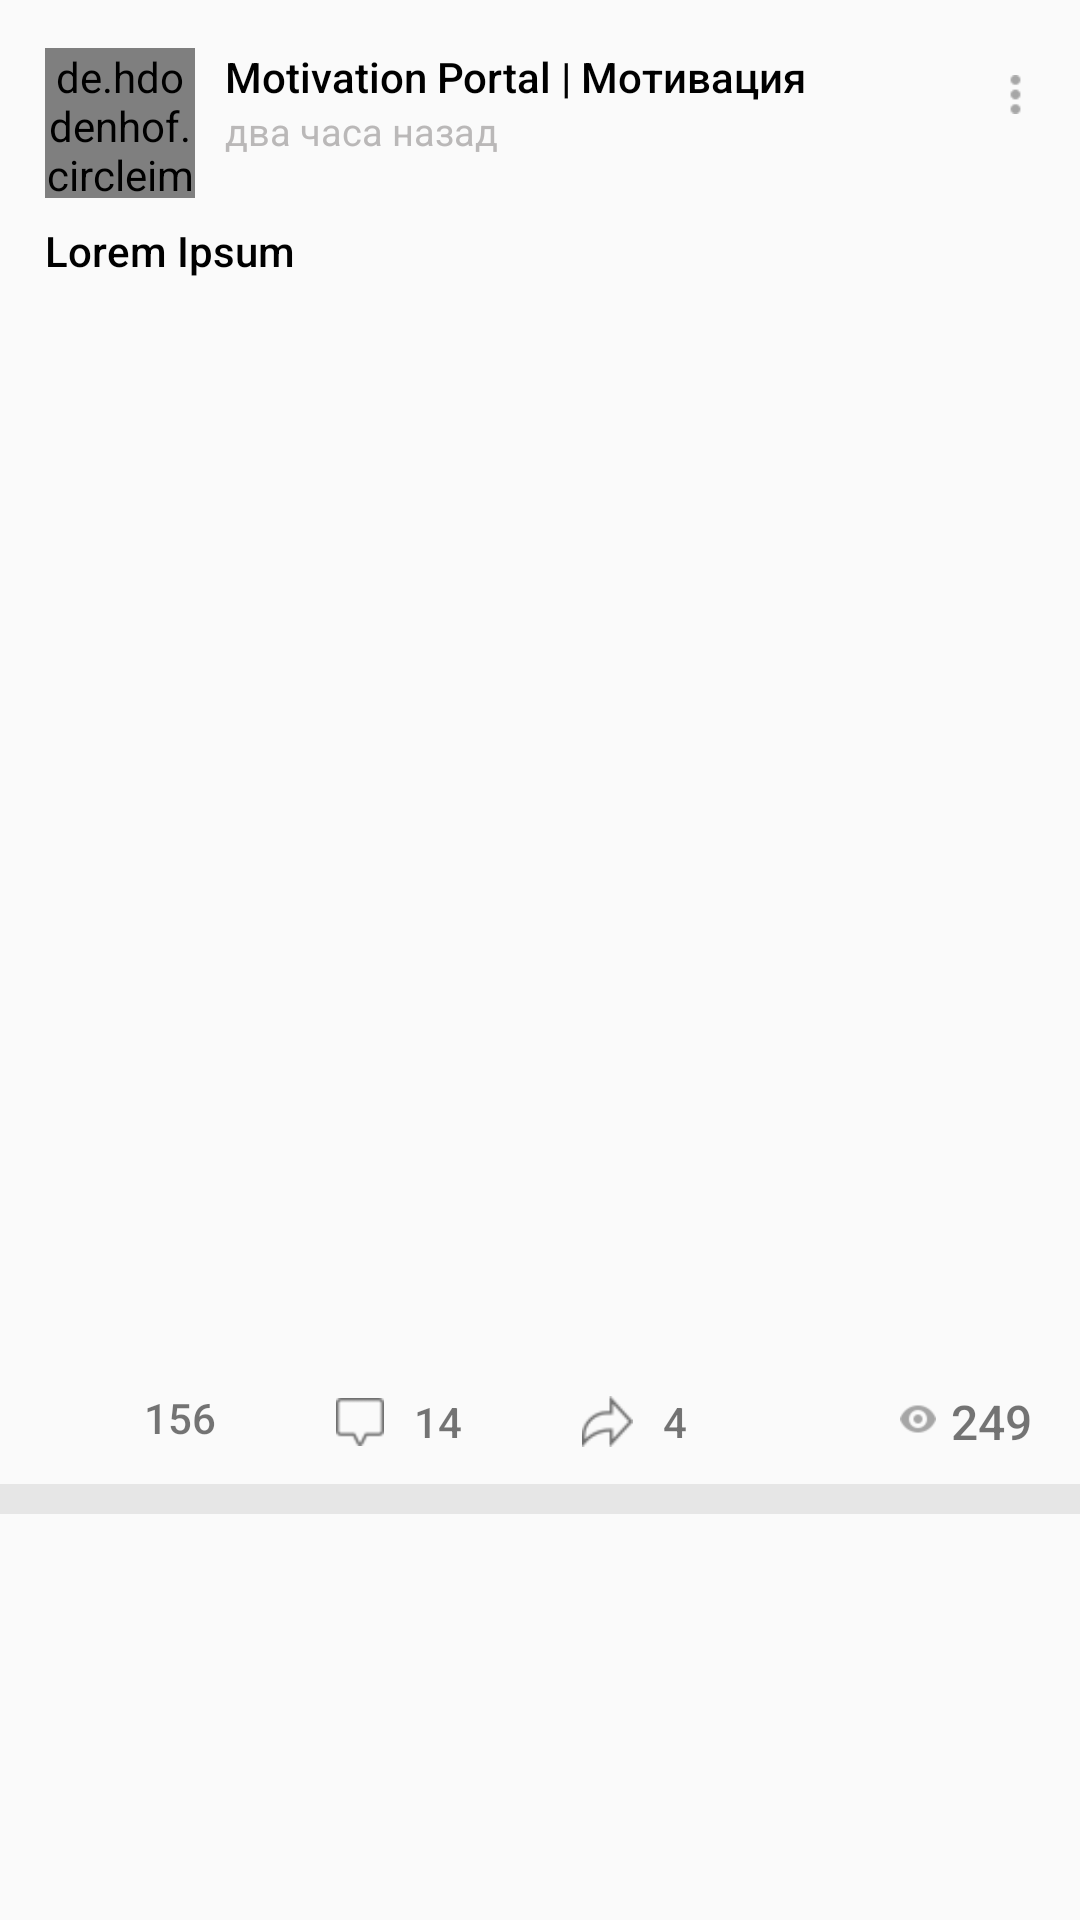

Icons on this 1080px x 1920px Android screen, each with its box as (x1, y1, x2, y2):
comment: (336, 1398, 384, 1446)
more: (1010, 75, 1021, 114)
share: (582, 1396, 633, 1447)
view: (900, 1405, 936, 1433)
